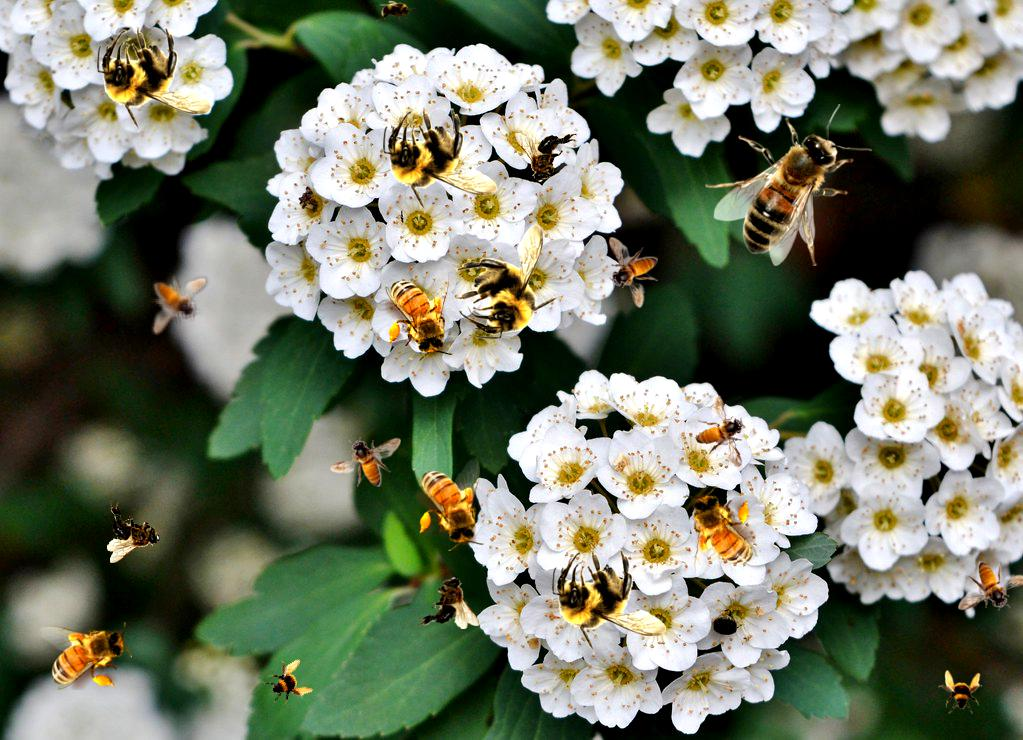Bee: (705, 104, 872, 266), (383, 107, 498, 214), (552, 548, 667, 655), (97, 26, 212, 133), (455, 224, 562, 339), (682, 482, 760, 583), (134, 262, 220, 337), (385, 268, 453, 361), (39, 622, 132, 690), (416, 458, 484, 551), (692, 392, 750, 469), (257, 652, 317, 712), (330, 437, 401, 487), (608, 237, 658, 308), (107, 501, 160, 563), (515, 130, 577, 183), (417, 576, 479, 629), (958, 561, 1023, 611), (938, 670, 982, 714), (376, 0, 416, 22)
